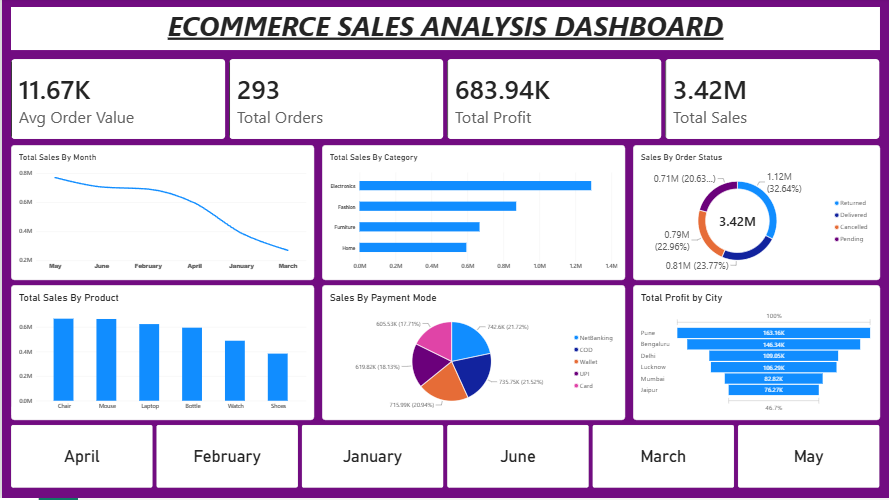

Layout of this report page (visuals, bound fields, positions):
{"tool":"powerbi","page":{"name":"Page 1","canvas":[1920,1080],"ordinal":0},"visuals":[{"type":"cardVisual","fields":{"Data":["DAX Measures.Avg Order Value","DAX Measures.Total Orders","DAX Measures.Total Profit","DAX Measures.Total Sales"]},"box":[20.2,131,1877.2,173.9],"z":0},{"type":"textbox","box":[20.2,20.2,1877.2,93.2],"z":1},{"type":"lineChart","title":"Total Sales By Month","fields":{"Category":["Clean_Ecommerce.Month"],"Y":["Sum(Clean_Ecommerce.Sales)"]},"box":[20.2,317.5,655.1,292.3],"z":2},{"type":"barChart","title":"Total Sales By Category","fields":{"Category":["Clean_Ecommerce.Category"],"Y":["Sum(Clean_Ecommerce.Sales)"]},"box":[690.4,317.5,655.1,292.3],"z":3},{"type":"columnChart","title":"Total Sales By Product","fields":{"Y":["Sum(Clean_Ecommerce.Sales)"],"Category":["Clean_Ecommerce.Product"]},"box":[20,619,655,292],"z":4},{"type":"pieChart","title":"Sales By Payment Mode","fields":{"Category":["Clean_Ecommerce.Payment_Mode"],"Y":["Sum(Clean_Ecommerce.Sales)"]},"box":[690.4,619.8,655.1,292.3],"z":5},{"type":"donutChart","title":"Sales By Order Status","fields":{"Y":["Sum(Clean_Ecommerce.Sales)"],"Category":["Clean_Ecommerce.Order_Status"]},"box":[1363.1,317.5,534.2,292.3],"z":6},{"type":"advancedSlicerVisual","fields":{"Values":["Clean_Ecommerce.Month"]},"box":[20.2,876.9,1877.2,181.4],"z":7},{"type":"funnel","title":"Total Profit by City","fields":{"Y":["Sum(Clean_Ecommerce.Profit)"],"Category":["Clean_Ecommerce.City"]},"box":[1363.1,619.8,534.2,292.3],"z":8}]}

Visuals, with their boxes in screenshot pixels (x1, y1, x2, y2), scaled from the page's 1920x1080 canvas onto the 889x500 screenshot:
cardVisual - DAX Measures.Avg Order Value x DAX Measures.Total Orders: x1=9 y1=61 x2=879 y2=141
textbox: x1=9 y1=9 x2=879 y2=52
"Total Sales By Month" lineChart: x1=9 y1=147 x2=313 y2=282
"Total Sales By Category" barChart: x1=320 y1=147 x2=623 y2=282
"Total Sales By Product" columnChart: x1=9 y1=287 x2=313 y2=422
"Sales By Payment Mode" pieChart: x1=320 y1=287 x2=623 y2=422
"Sales By Order Status" donutChart: x1=631 y1=147 x2=878 y2=282
advancedSlicerVisual - Clean_Ecommerce.Month: x1=9 y1=406 x2=879 y2=490
"Total Profit by City" funnel: x1=631 y1=287 x2=878 y2=422
